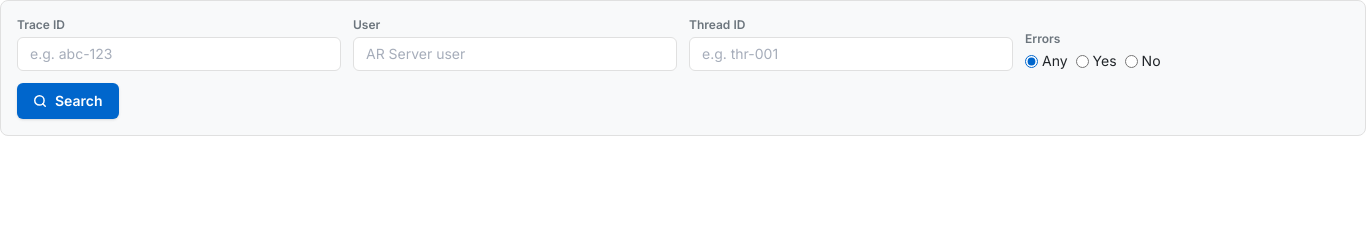
Test: TraceSearch › renders truncated trace ID in result row
Click the button "Search": click(68, 101) top-left (17, 83), bottom-right (118, 119)
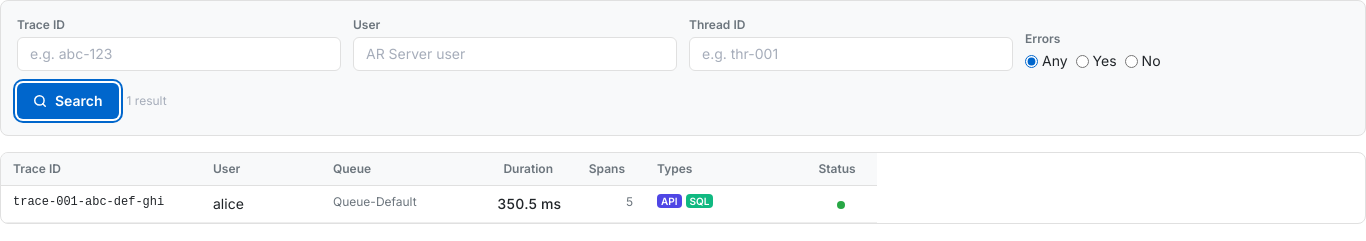
Result: the cell titled "trace-001-abc-def-ghi" is shown at top-left (1, 186), bottom-right (201, 222)
